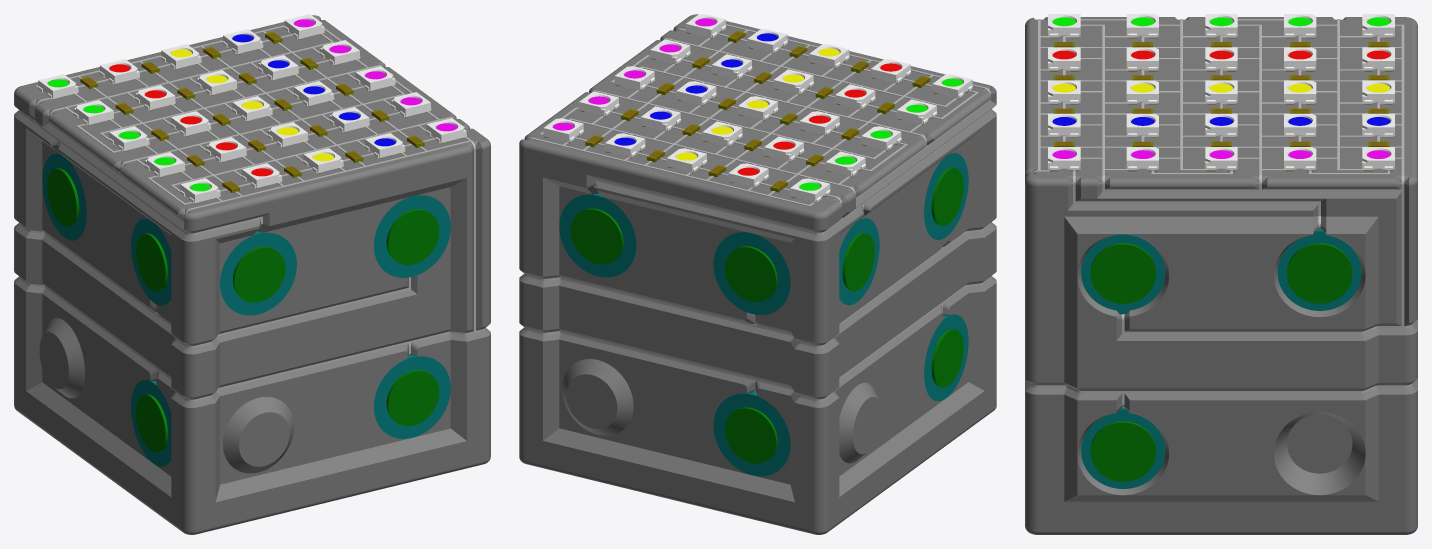
The picture shows the model from 3 angles, left to right: view 1: azimuth 30°, elevation 25°; view 2: azimuth 150°, elevation 25°; view 3: azimuth 270°, elevation 25°; orthographic projection. The views are drawn at different scales.
Parts seen in each view (by area): view 1: base, leds, resin, magnets, traces, capacitors, pads, rgb4, rgb3, rgb2, rgb5, rgb1; view 2: base, leds, resin, magnets, traces, capacitors, pads, rgb5, rgb3, rgb1, rgb4, rgb2; view 3: base, leds, traces, magnets, resin, capacitors, pads, rgb2, rgb3, rgb1, rgb4, rgb5.
Part boxes in pixels (x1,y1,x2,y2): base: (14, 15, 490, 534); leds: (38, 14, 466, 203); resin: (42, 153, 450, 466); magnets: (47, 168, 439, 452); traces: (19, 18, 485, 401); capacitors: (81, 32, 422, 191); pads: (40, 31, 464, 203); rgb4: (232, 34, 395, 146); rgb3: (170, 49, 334, 161); rgb2: (109, 64, 272, 176); rgb5: (294, 19, 457, 131); rgb1: (47, 79, 210, 191); base: (519, 14, 996, 534); leds: (543, 14, 972, 202); resin: (559, 153, 968, 476); magnets: (570, 167, 963, 463); traces: (524, 24, 991, 401); capacitors: (587, 31, 929, 190); pads: (544, 31, 967, 203); rgb5: (552, 18, 716, 130); rgb3: (676, 48, 839, 160); rgb1: (799, 78, 963, 190); rgb4: (614, 33, 778, 145); rgb2: (737, 63, 901, 175); base: (1025, 17, 1417, 534); leds: (1048, 14, 1394, 170); traces: (1030, 19, 1412, 407); magnets: (1090, 243, 1352, 481); resin: (1081, 228, 1361, 488); capacitors: (1056, 42, 1386, 146); pads: (1050, 38, 1392, 171); rgb2: (1052, 50, 1390, 59); rgb3: (1052, 83, 1390, 92); rgb1: (1052, 17, 1390, 26); rgb4: (1052, 117, 1390, 125); rgb5: (1052, 150, 1390, 158).
Bounding box in the file's own units: 0.062 × 0.0618 × 0.06.
